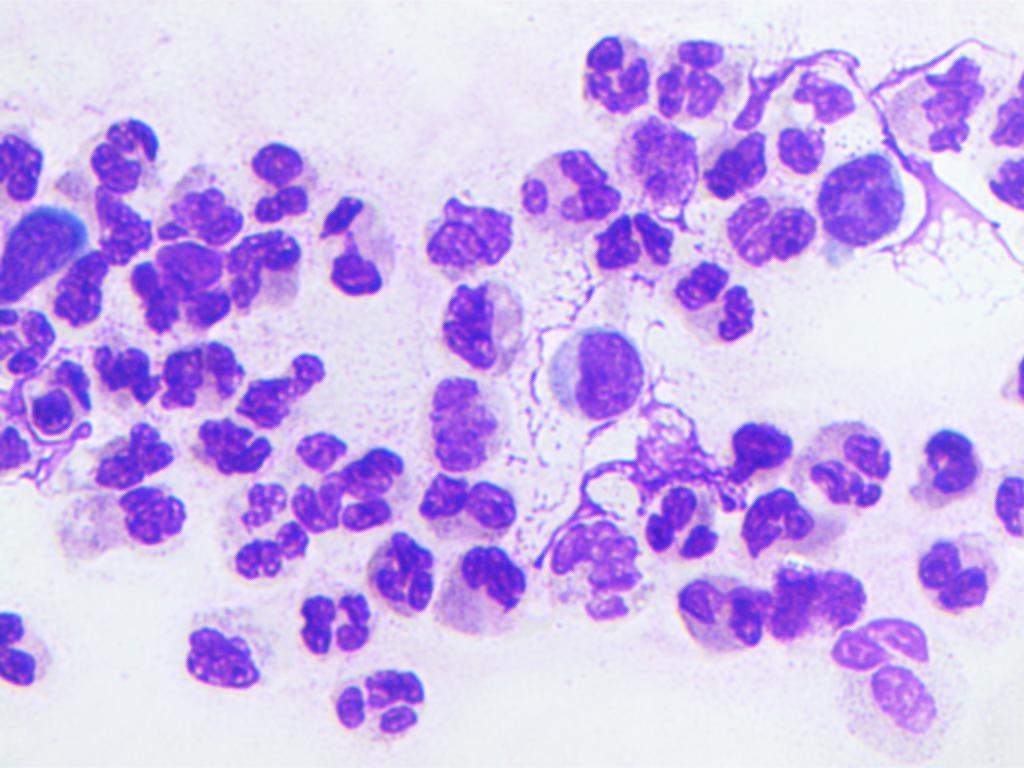lymphocyte: (815, 153, 908, 273), (546, 325, 650, 419)
neutrophil: (821, 615, 955, 753), (283, 415, 417, 541), (532, 502, 657, 625), (637, 24, 762, 124), (729, 475, 852, 574), (128, 235, 241, 341), (887, 44, 990, 155), (766, 551, 878, 653), (315, 663, 446, 749), (217, 475, 312, 589), (788, 409, 893, 512), (182, 598, 291, 695), (579, 197, 685, 296), (608, 116, 708, 219), (221, 339, 331, 431), (408, 469, 534, 549), (420, 372, 518, 473), (416, 180, 522, 273), (313, 190, 401, 299), (672, 250, 767, 350), (511, 148, 621, 232), (432, 543, 525, 641), (20, 336, 96, 451), (439, 276, 528, 374), (86, 314, 163, 423), (223, 221, 312, 315), (85, 414, 187, 495), (669, 574, 772, 653), (724, 188, 822, 270), (150, 338, 253, 414), (636, 484, 731, 566), (898, 426, 989, 509), (150, 168, 248, 245), (782, 44, 867, 130), (83, 111, 166, 199), (912, 533, 1003, 613), (243, 138, 320, 226), (363, 527, 437, 618), (49, 240, 117, 336), (577, 30, 651, 116), (107, 483, 190, 555), (701, 126, 776, 205), (190, 416, 278, 478), (291, 579, 339, 661), (774, 121, 835, 179), (981, 143, 1024, 222)
